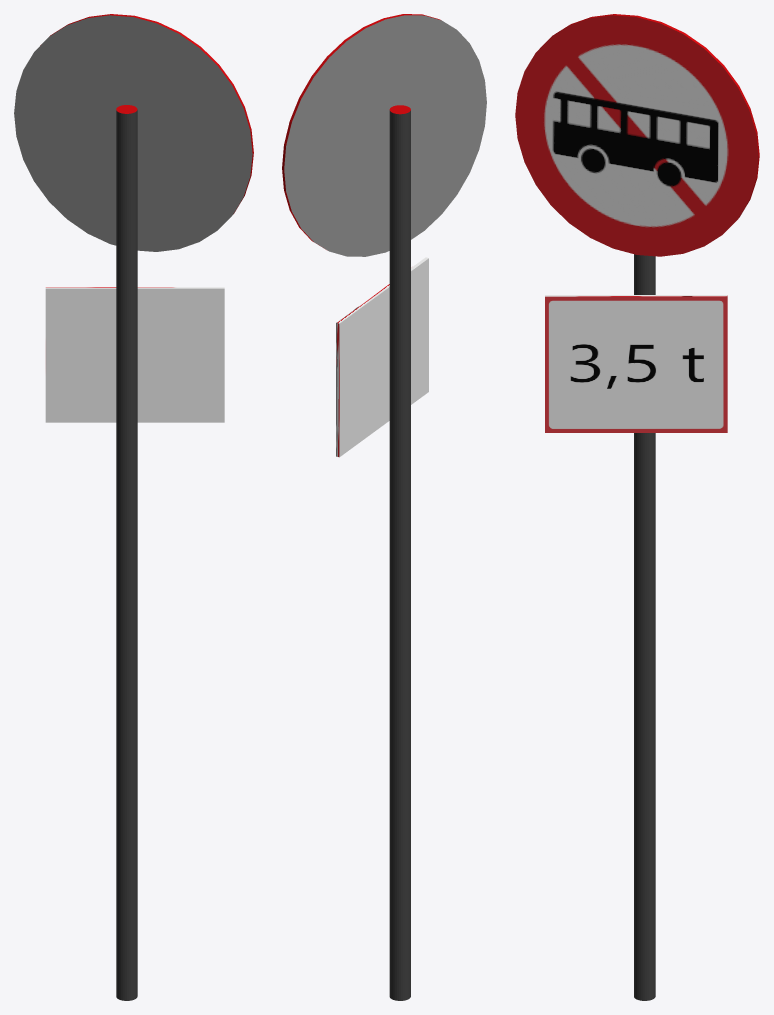
File: SignNoBussesWithPole.fbx
3 renders of one model, left to right at view 1: azimuth 90°, elevation 25°; view 2: azimuth 150°, elevation 25°; view 3: azimuth 270°, elevation 25°, orthographic.
Visible parts, largest first — view 1: SignNoBussesWithPole; view 2: SignNoBussesWithPole; view 3: SignNoBussesWithPole.
Boxes of the visible parts, x1=… form: SignNoBussesWithPole: x1=14, y1=14, x2=253, y2=1000; SignNoBussesWithPole: x1=282, y1=14, x2=486, y2=1000; SignNoBussesWithPole: x1=515, y1=14, x2=759, y2=1000.
Size of the model in its own units: 22.8 by 245 by 54.8.
